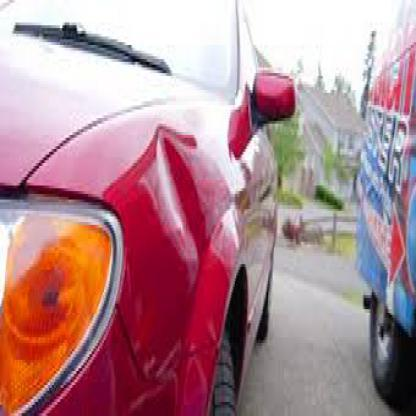dent: (148, 127, 217, 272)
